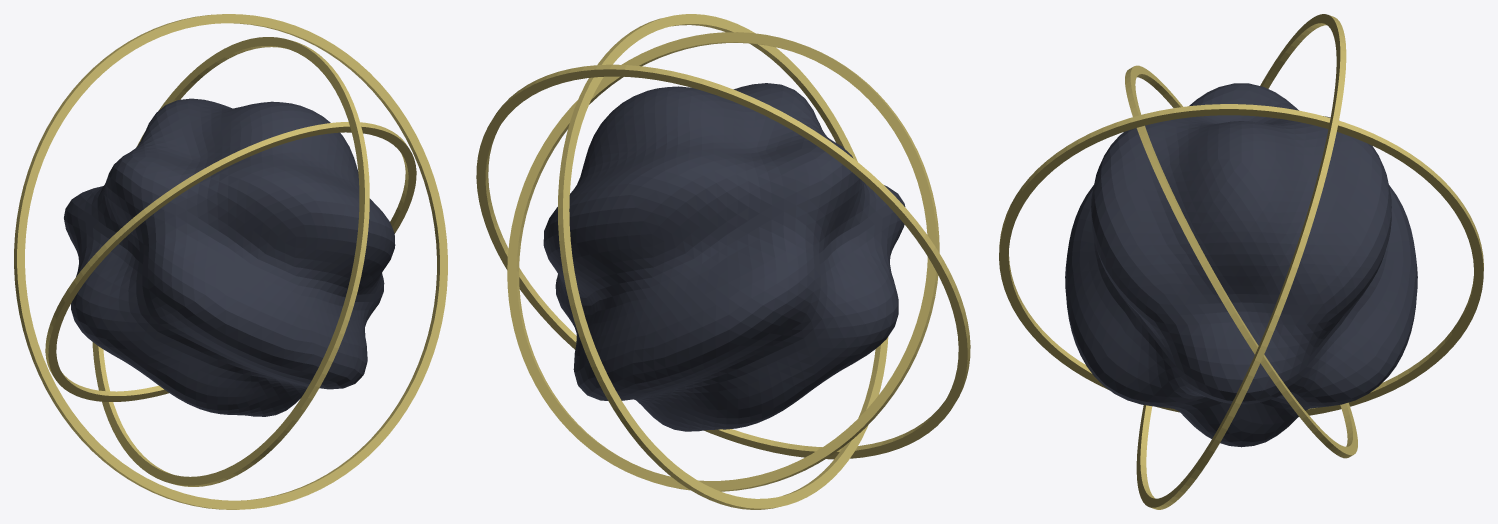
Rendered from gpu-artifact.glb.
3 views of the same model, side by side, from view 1: azimuth 30°, elevation 25°; view 2: azimuth 150°, elevation 25°; view 3: azimuth 270°, elevation 25° (orthographic). The views are drawn at different scales.
Parts seen in each view (by area): view 1: cron-rhythm-studio_obsidian_core, cron-rhythm-studio_orbital_ring_2, cron-rhythm-studio_orbital_ring_1, cron-rhythm-studio_orbital_ring_0; view 2: cron-rhythm-studio_obsidian_core, cron-rhythm-studio_orbital_ring_0, cron-rhythm-studio_orbital_ring_2, cron-rhythm-studio_orbital_ring_1; view 3: cron-rhythm-studio_obsidian_core, cron-rhythm-studio_orbital_ring_1, cron-rhythm-studio_orbital_ring_2, cron-rhythm-studio_orbital_ring_0.
Part boxes in pixels (x1,y1,x2,y2): cron-rhythm-studio_obsidian_core: (64, 98, 395, 416); cron-rhythm-studio_orbital_ring_2: (14, 14, 447, 509); cron-rhythm-studio_orbital_ring_1: (92, 37, 369, 486); cron-rhythm-studio_orbital_ring_0: (45, 122, 416, 401); cron-rhythm-studio_obsidian_core: (543, 83, 905, 431); cron-rhythm-studio_orbital_ring_0: (507, 32, 939, 491); cron-rhythm-studio_orbital_ring_2: (476, 64, 970, 459); cron-rhythm-studio_orbital_ring_1: (558, 14, 888, 509); cron-rhythm-studio_obsidian_core: (1065, 83, 1417, 447); cron-rhythm-studio_orbital_ring_1: (999, 104, 1483, 415); cron-rhythm-studio_orbital_ring_2: (1136, 14, 1346, 509); cron-rhythm-studio_orbital_ring_0: (1125, 65, 1357, 458).
Size of the model in its own units: 3.24 by 3 by 3.
